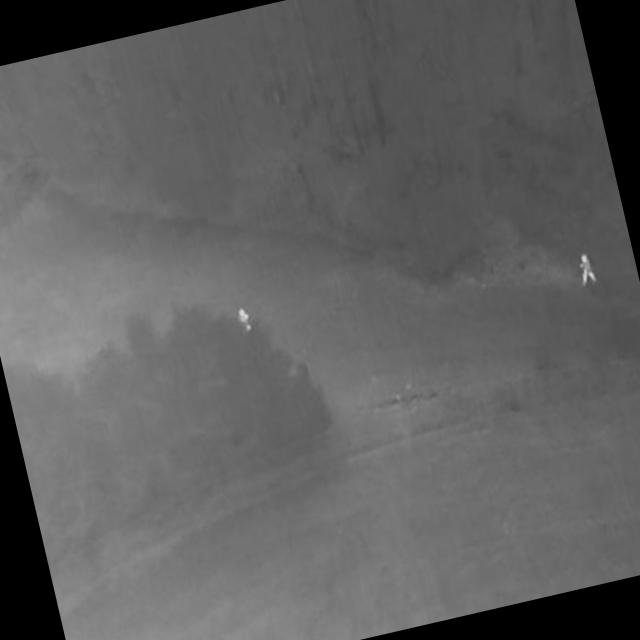person: (575, 252, 600, 289), (236, 307, 254, 334)
